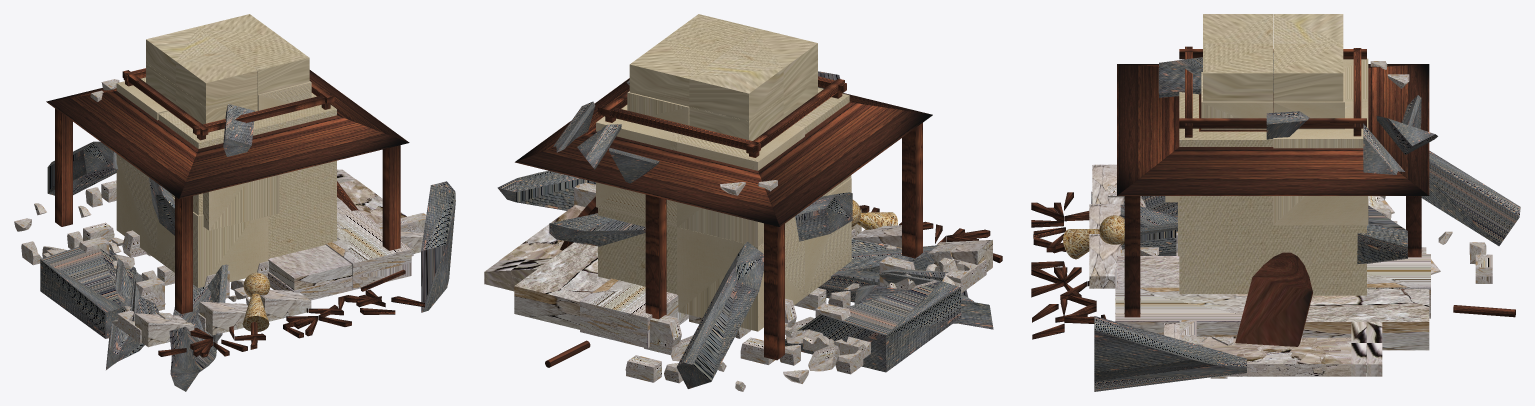
Rendered from YamatoArmyBuilding_semidemolished.fbx.
The picture shows the model from 3 angles, left to right: view 1: azimuth 30°, elevation 25°; view 2: azimuth 150°, elevation 25°; view 3: azimuth 270°, elevation 25°; orthographic projection. The views are drawn at different scales.
Visible parts, largest first — view 1: Cube.016, Cube.015, Plane.003_cell.029, Cube.015_cell.003, Plane.003_cell.062, Cube.006_cell.004, Cube.017_cell.021, Cube.015_cell, Cube.015_cell.004, Cube.006, Cube.011, Cube.017_cell.005 (+34 smaller); view 2: Cube.016, Plane.003_cell.029, Cube.015_cell.004, Plane.003_cell.040, Cube.006, Cube.015_cell.005, Cube.015, Cube.017_cell.018, Cube.017_cell.001, Cube.006_cell.006, Cube.015_cell.006, Cube.012 (+34 smaller); view 3: Cube.016, Cube.015, Cube.006, Plane.003_cell.062, Cube.002, Cube.015_cell.006, Cube.006_cell.004, Plane.003_cell.040, Cube.017_cell.018, Cube.017_cell.004, Cube.017_cell.001, Plane.003_cell.027 (+32 smaller).
Boxes of the visible parts, x1=… form: Cube.016: x1=46, y1=70, x2=409, y2=198; Cube.015: x1=158, y1=93, x2=336, y2=258; Plane.003_cell.029: x1=40, y1=246, x2=136, y2=338; Cube.015_cell.003: x1=157, y1=197, x2=268, y2=287; Plane.003_cell.062: x1=421, y1=181, x2=455, y2=312; Cube.006_cell.004: x1=325, y1=201, x2=411, y2=276; Cube.017_cell.021: x1=176, y1=49, x2=257, y2=107; Cube.015_cell: x1=203, y1=175, x2=279, y2=230; Cube.015_cell.004: x1=116, y1=157, x2=157, y2=259; Cube.006: x1=268, y1=197, x2=352, y2=290; Cube.011: x1=175, y1=196, x2=192, y2=314; Cube.017_cell.005: x1=177, y1=48, x2=257, y2=106; Cube.016: x1=515, y1=78, x2=932, y2=226; Plane.003_cell.029: x1=785, y1=281, x2=961, y2=372; Cube.015_cell.004: x1=677, y1=219, x2=804, y2=331; Plane.003_cell.040: x1=676, y1=241, x2=763, y2=388; Cube.006: x1=514, y1=242, x2=609, y2=329; Cube.015_cell.005: x1=677, y1=125, x2=804, y2=246; Cube.015: x1=598, y1=87, x2=849, y2=294; Cube.017_cell.018: x1=629, y1=39, x2=723, y2=106; Cube.017_cell.001: x1=689, y1=54, x2=782, y2=118; Cube.006_cell.006: x1=580, y1=278, x2=678, y2=333; Cube.015_cell.006: x1=596, y1=105, x2=685, y2=226; Cube.012: x1=764, y1=223, x2=784, y2=360; Cube.016: x1=1117, y1=64, x2=1429, y2=195; Cube.015: x1=1179, y1=92, x2=1366, y2=295; Cube.006: x1=1117, y1=256, x2=1429, y2=350; Plane.003_cell.062: x1=1094, y1=316, x2=1246, y2=391; Cube.002: x1=1235, y1=252, x2=1312, y2=346; Cube.015_cell.006: x1=1273, y1=99, x2=1368, y2=225; Cube.006_cell.004: x1=1115, y1=287, x2=1247, y2=336; Plane.003_cell.040: x1=1421, y1=150, x2=1520, y2=245; Cube.017_cell.018: x1=1273, y1=43, x2=1343, y2=101; Cube.017_cell.004: x1=1203, y1=43, x2=1272, y2=101; Cube.017_cell.001: x1=1273, y1=14, x2=1343, y2=43; Plane.003_cell.027: x1=1357, y1=205, x2=1407, y2=263.
Size of the model in its own units: 1673 by 1066 by 1568.
